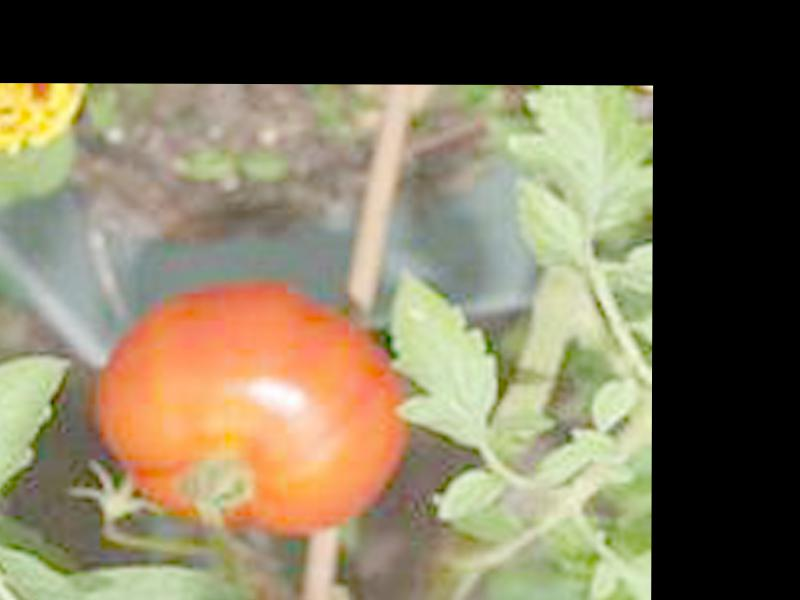Tomato: (92, 285, 412, 537)
